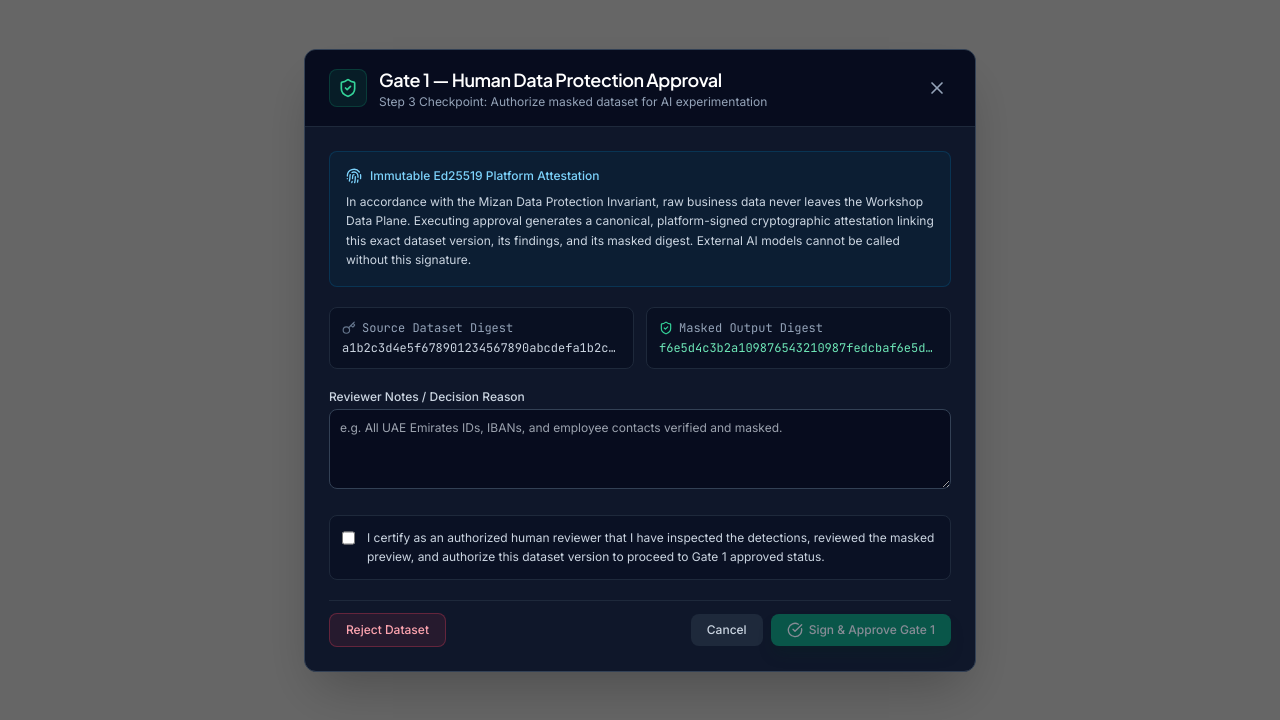
Test case: Gate1ApprovalModal › disables approve button until certification checkbox is checked
expect the button "Sign & Approve Gate 1" is disabled: met, box [771,614,951,646]
Note: Check certification checkbox
Click the checkbox.
click(348, 538)  # box [342,530,355,546]
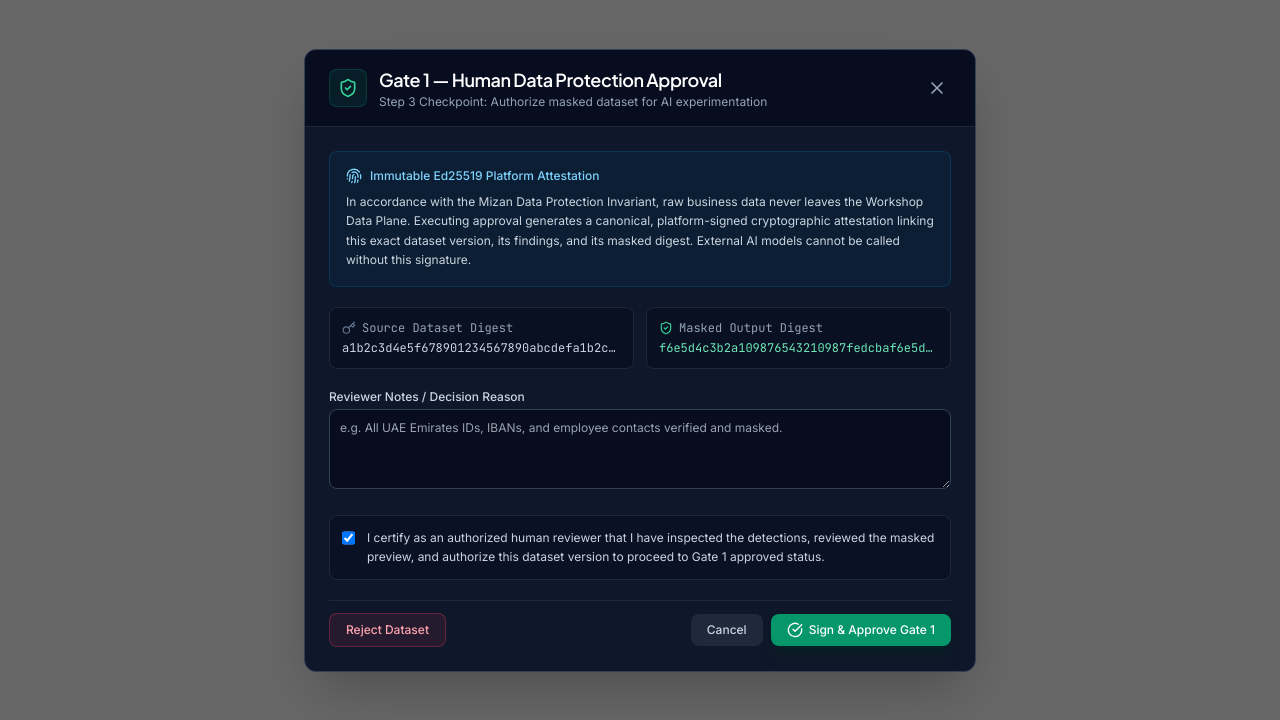
expect the button "Sign & Approve Gate 1" is enabled: met, box [771,614,951,646]
